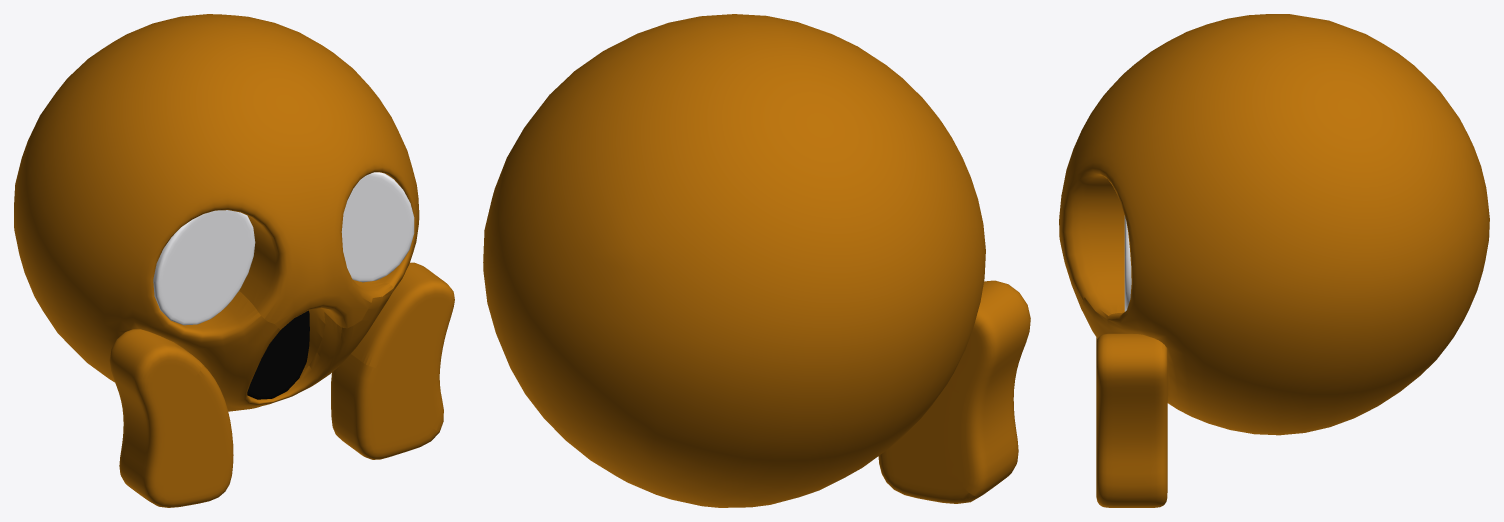
Rendered from scream.obj.
3 renders of one model, left to right at view 1: azimuth 30°, elevation 25°; view 2: azimuth 150°, elevation 25°; view 3: azimuth 270°, elevation 25°, orthographic. The views are drawn at different scales.
Parts seen in each view (by area): view 1: Group47015, ZBrush_de0, Group1, Group002, ZBrush_def, Group24069; view 2: Group47015, ZBrush_de0; view 3: Group47015, Group1, ZBrush_def.
Boxes of the visible parts, x1,y1,x2,y2 form: Group47015: (14, 14, 419, 411); ZBrush_de0: (109, 329, 233, 507); Group1: (331, 262, 454, 459); Group002: (153, 210, 255, 325); ZBrush_def: (341, 172, 414, 282); Group24069: (247, 310, 309, 399); Group47015: (483, 14, 985, 507); ZBrush_de0: (878, 280, 1030, 503); Group47015: (1059, 14, 1489, 435); Group1: (1096, 333, 1167, 507); ZBrush_def: (1124, 215, 1131, 311).
Size of the model in its own units: 23.18 by 24.59 by 23.35.
